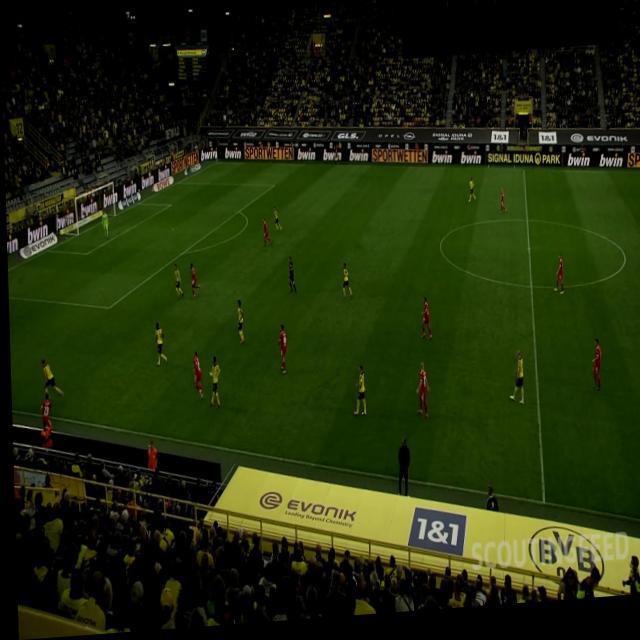goalkeeper: (100, 210, 109, 240)
player: (38, 358, 61, 399), (506, 358, 522, 414), (413, 368, 427, 425), (349, 369, 364, 422), (206, 358, 219, 412), (36, 389, 51, 431), (588, 348, 600, 400), (153, 324, 166, 369), (274, 328, 285, 379), (418, 303, 430, 347), (550, 261, 562, 303), (191, 354, 201, 402), (340, 267, 351, 306), (172, 265, 182, 301), (235, 303, 243, 348), (188, 265, 197, 301), (261, 222, 271, 251), (466, 183, 475, 210), (272, 209, 280, 235), (498, 195, 505, 221)
referee: (285, 260, 295, 299), (332, 148, 338, 171)
